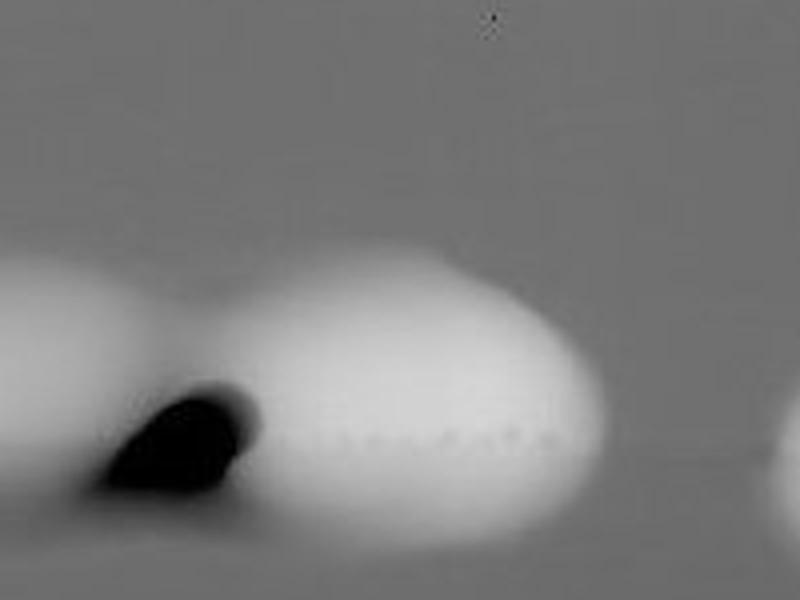defect: (96, 391, 253, 502)
